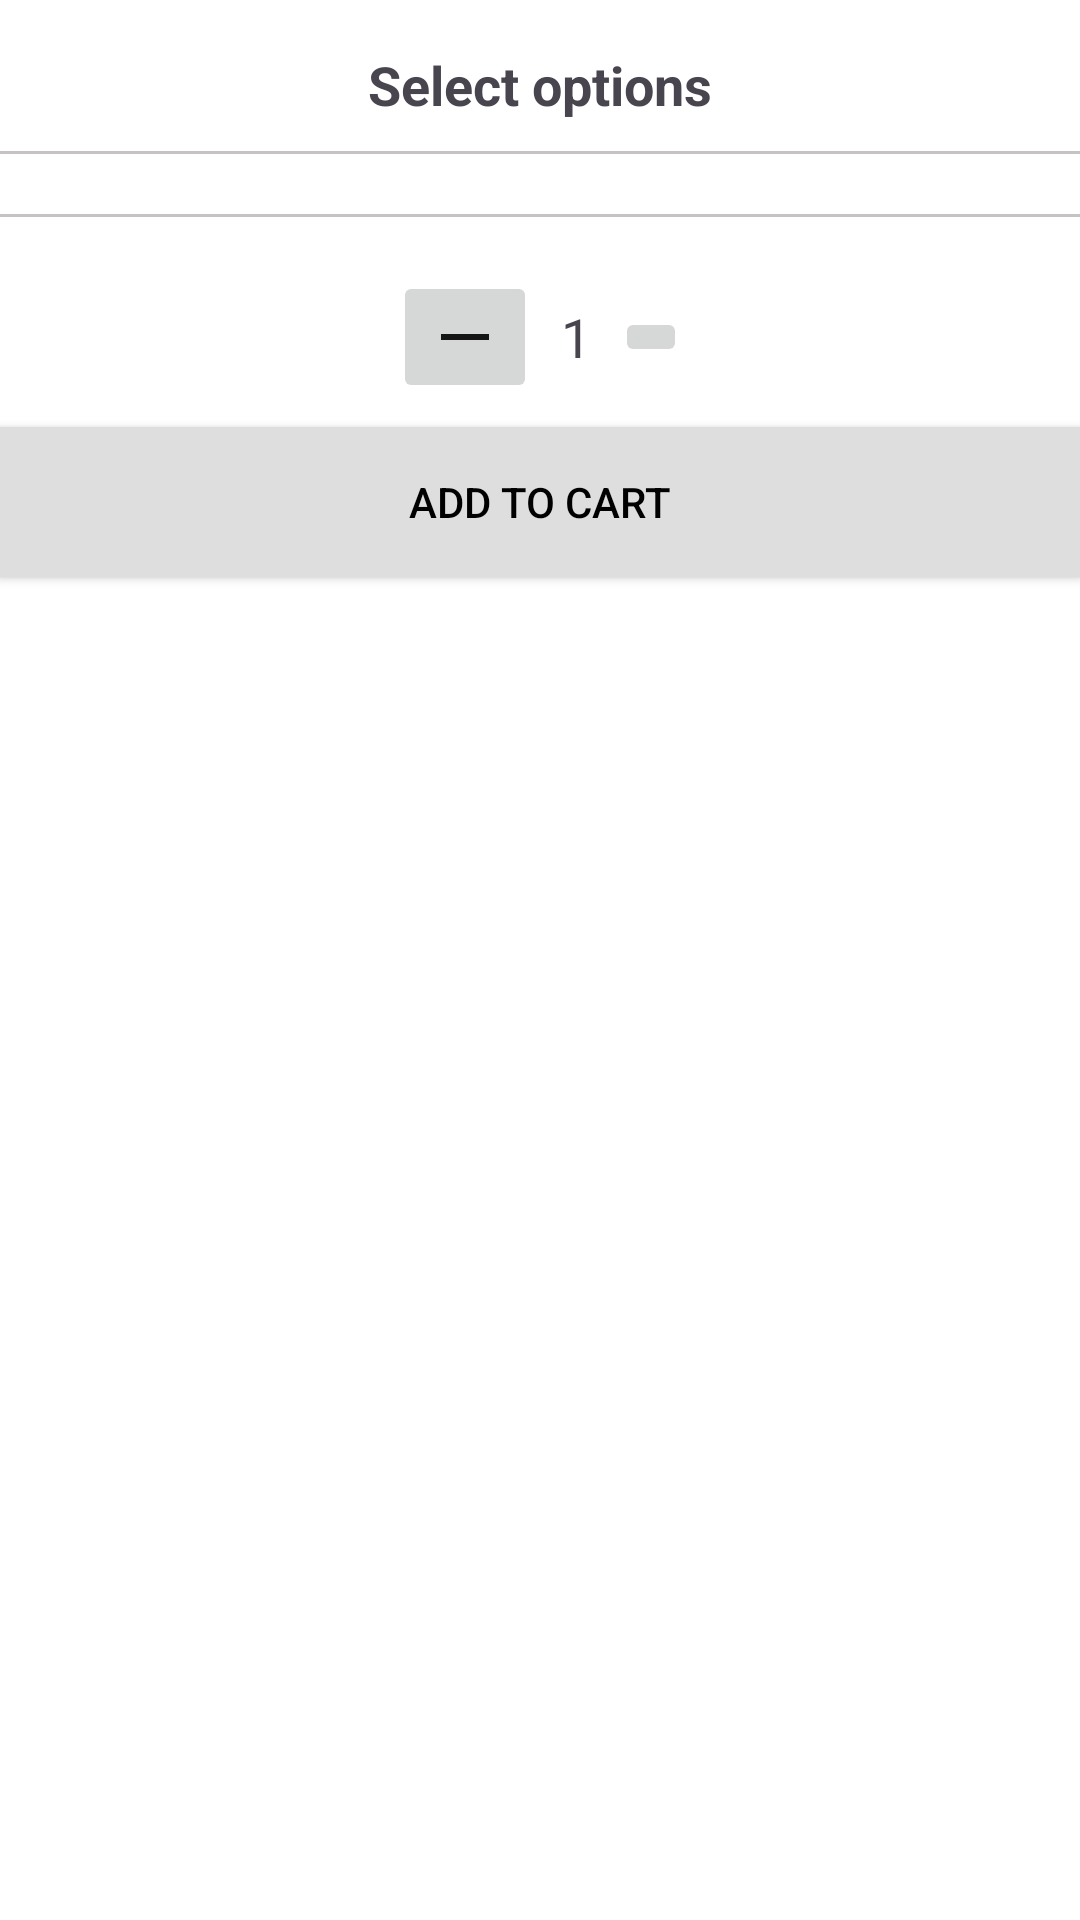

Named icons in this screenshot (1080*1920) and their bounding boxes, region(x1, y1, x2, y2):
horizontal rule: region(405, 289, 525, 385)
